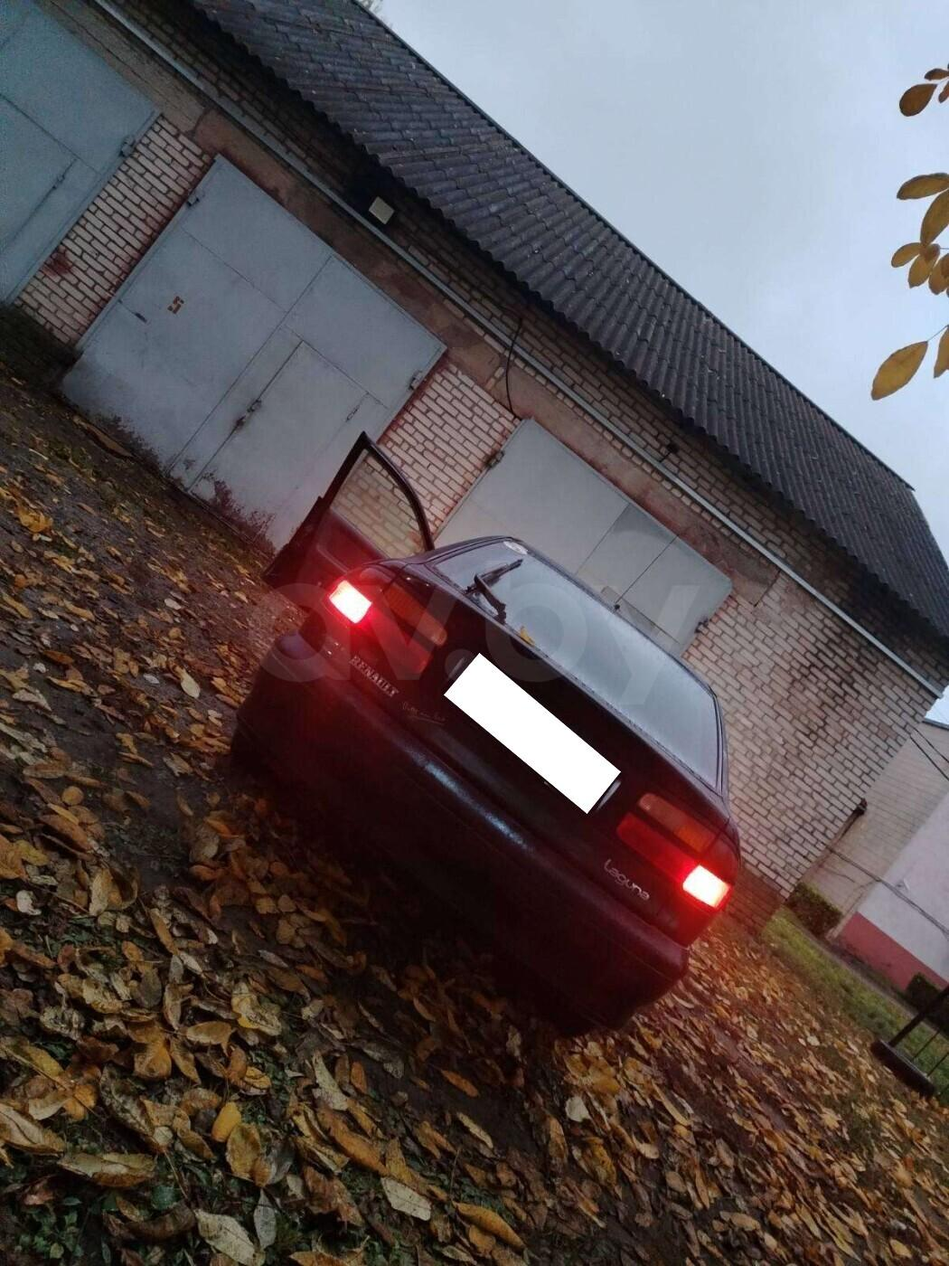Laguna_1998-2001: (222, 432, 745, 1029)
